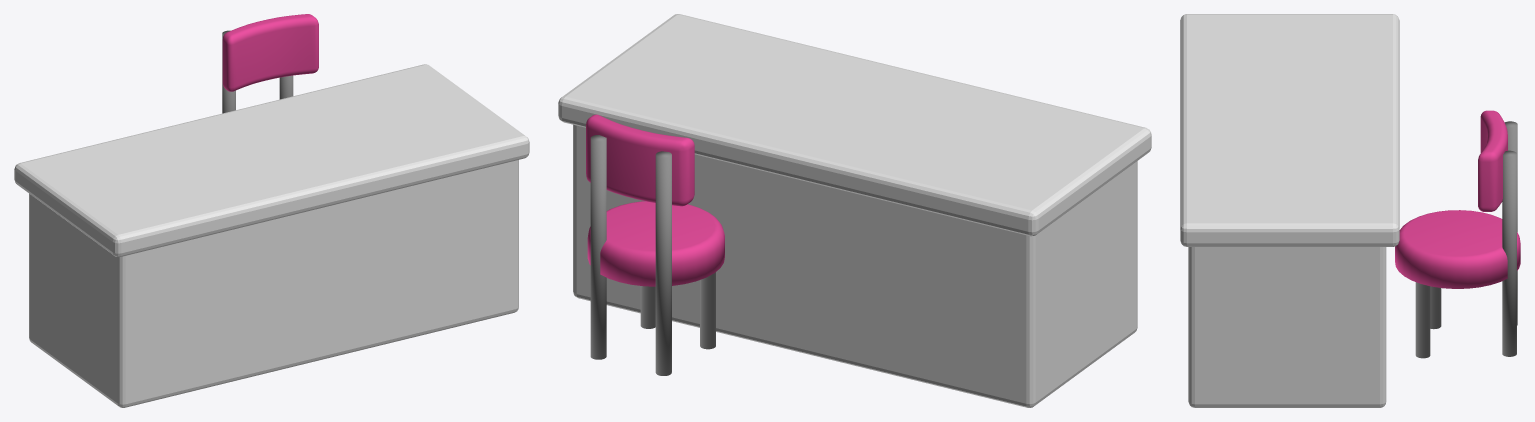
The model's file is MesaSillaOficina.fbx.
3 renders of one model, left to right at view 1: azimuth 30°, elevation 25°; view 2: azimuth 150°, elevation 25°; view 3: azimuth 270°, elevation 25°, orthographic. The views are drawn at different scales.
Parts seen in each view (by area): view 1: Cube.022, Cube.021, Cube.026; view 2: Cube.022, Cube.021, Cylinder.010, Cube.026, Cylinder.009, Cylinder.007, Cylinder.008, Cylinder.006; view 3: Cube.021, Cube.022, Cylinder.010, Cylinder.007, Cube.026, Cylinder.006, Cylinder.008, Cylinder.009.
Boxes of the visible parts, x1,y1,x2,y2 form: Cube.022: (29, 160, 518, 407); Cube.021: (14, 64, 529, 257); Cube.026: (222, 14, 318, 91); Cube.022: (573, 124, 1137, 407); Cube.021: (558, 14, 1151, 236); Cylinder.010: (587, 201, 724, 286); Cube.026: (586, 114, 694, 206); Cylinder.009: (655, 151, 671, 375); Cylinder.007: (590, 135, 606, 359); Cylinder.008: (700, 272, 715, 349); Cylinder.006: (640, 286, 655, 328); Cube.021: (1180, 14, 1399, 246); Cube.022: (1188, 247, 1386, 407); Cylinder.010: (1395, 210, 1520, 288); Cylinder.007: (1502, 150, 1516, 356); Cube.026: (1478, 110, 1507, 211); Cylinder.006: (1415, 282, 1430, 358); Cylinder.008: (1430, 286, 1441, 329); Cylinder.009: (1504, 121, 1517, 325).
Size of the model in its own units: 29.8 by 14.43 by 20.
